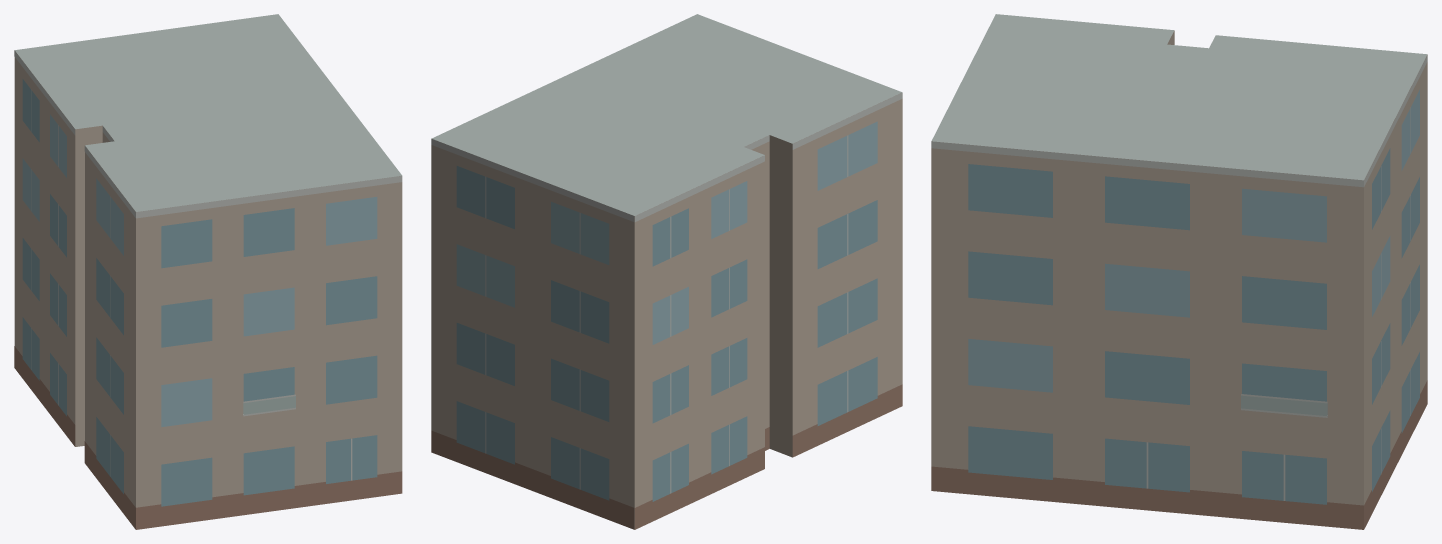
Rendered from residential-d54e1258-16ce-4d58-b1e8-571b72a27a5e.glb.
3 renders of one model, left to right at view 1: azimuth 30°, elevation 25°; view 2: azimuth 150°, elevation 25°; view 3: azimuth 270°, elevation 25°, orthographic. The views are drawn at different scales.
Parts seen in each view (by area): view 1: residential-d54e1258-16ce-4d58-b1e8-571b72a27a5e.tmp; view 2: residential-d54e1258-16ce-4d58-b1e8-571b72a27a5e.tmp; view 3: residential-d54e1258-16ce-4d58-b1e8-571b72a27a5e.tmp.
Part boxes in pixels (x1=…): residential-d54e1258-16ce-4d58-b1e8-571b72a27a5e.tmp: x1=14, y1=14, x2=402, y2=529; residential-d54e1258-16ce-4d58-b1e8-571b72a27a5e.tmp: x1=431, y1=14, x2=902, y2=529; residential-d54e1258-16ce-4d58-b1e8-571b72a27a5e.tmp: x1=931, y1=14, x2=1427, y2=529.
Bounding box in the file's own units: 12.46 × 12.2 × 15.71.
